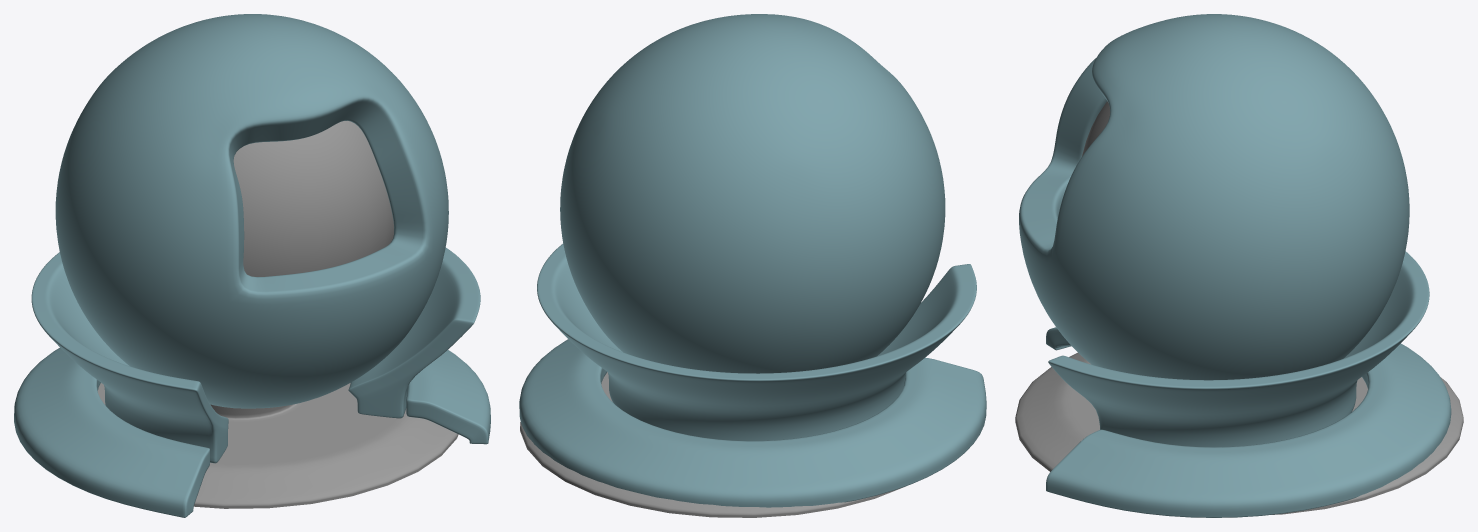
File: mitsuba-sphere.obj
The picture shows the model from 3 angles, left to right: view 1: azimuth 30°, elevation 25°; view 2: azimuth 150°, elevation 25°; view 3: azimuth 270°, elevation 25°; orthographic projection. The views are drawn at different scales.
Visible parts, largest first — view 1: 3, 2; view 2: 3, 2; view 3: 3, 2.
Part boxes in pixels (box(x1,y1,x2,y2)): 3: box(14, 14, 490, 517); 2: box(97, 121, 458, 508); 3: box(519, 14, 986, 507); 2: box(520, 372, 905, 517); 3: box(1019, 14, 1451, 517); 2: box(1015, 101, 1463, 514).
Size of the model in its own units: 2.44 by 2.21 by 2.31.
